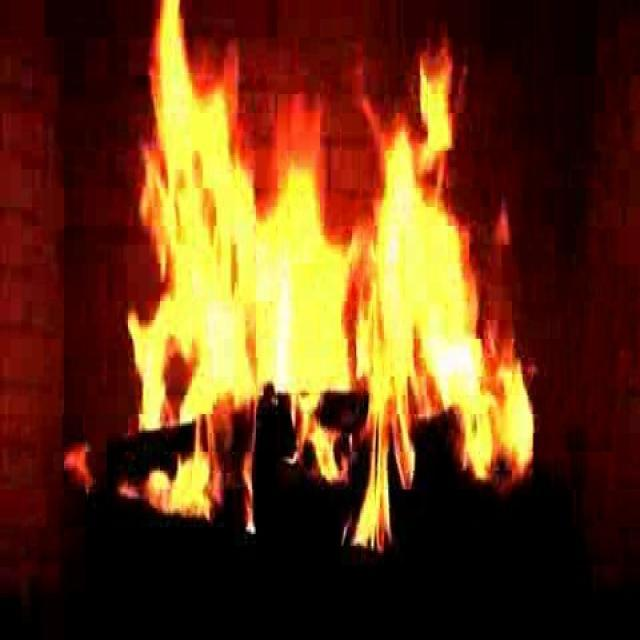Fire: (130, 10, 546, 548)
